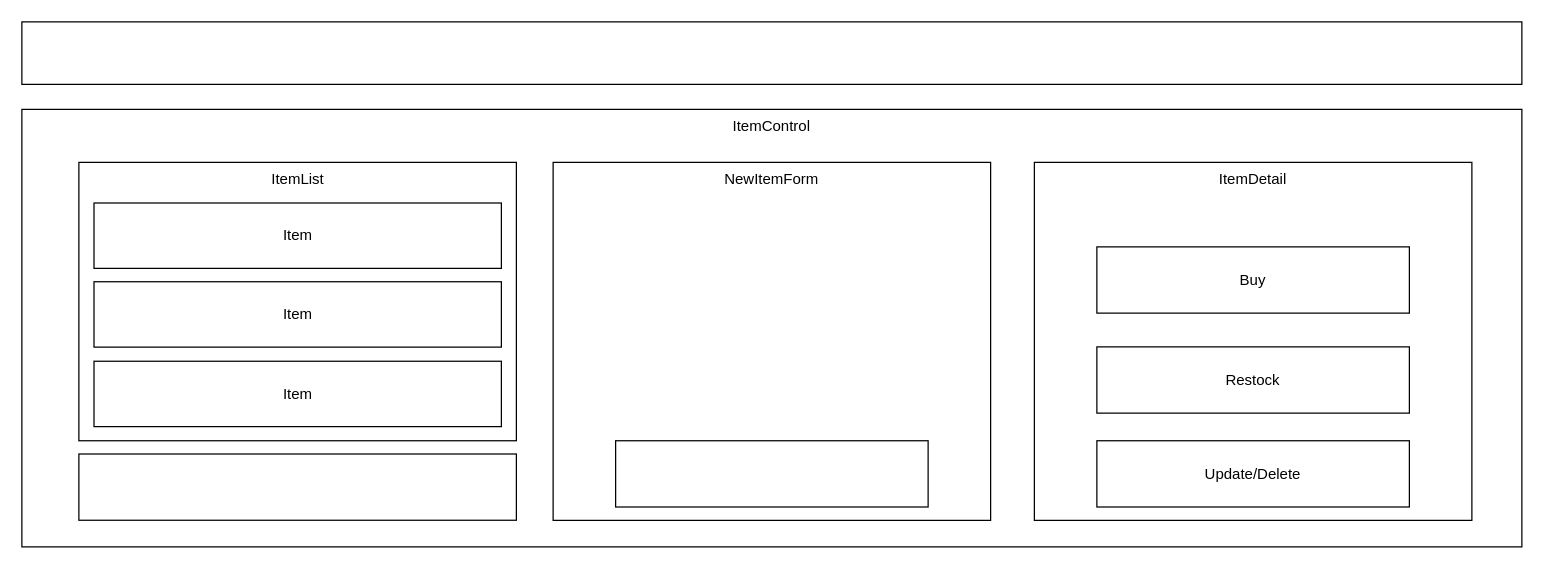
The diagram is 1544 pixels wide and 569 high, and some of its shapes have lost their labels. Here are the shapes that lost their labels. From the top down, the centre of each, then its label:
At point (771, 52): "Header".
At point (297, 486): "Add Item".
At point (771, 473): "Submit".
